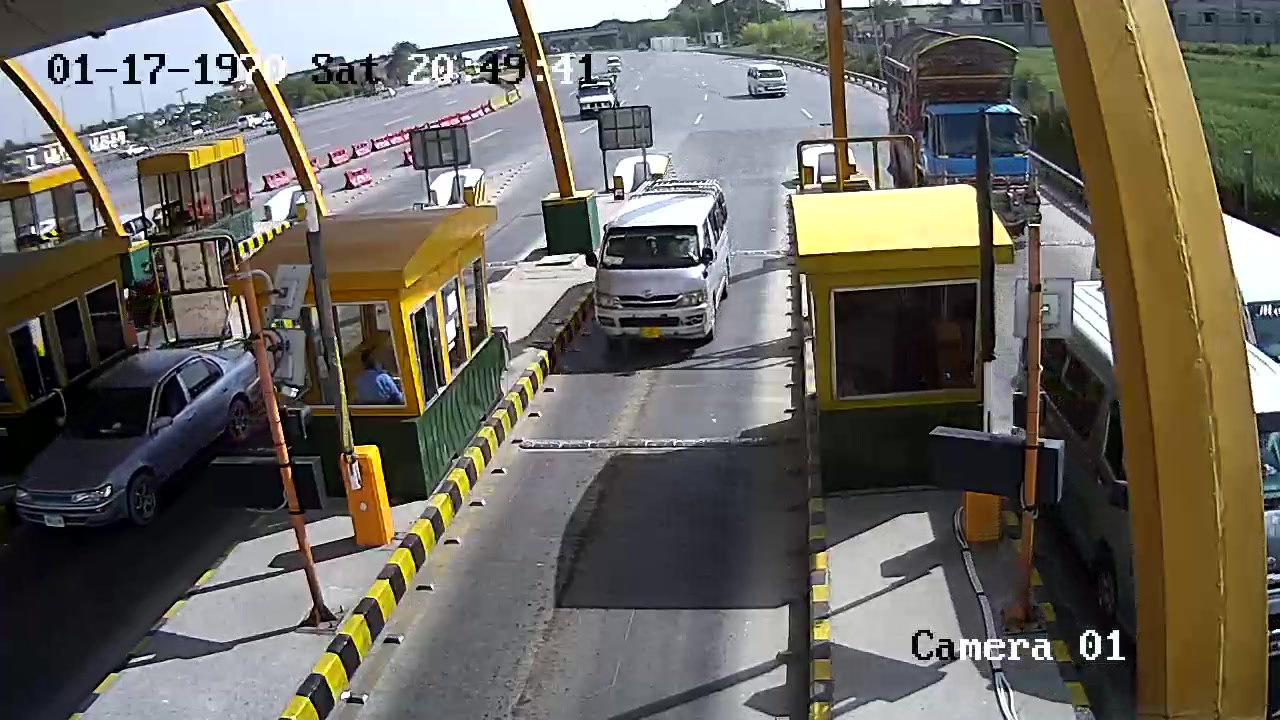F3: (588, 174, 738, 353)
